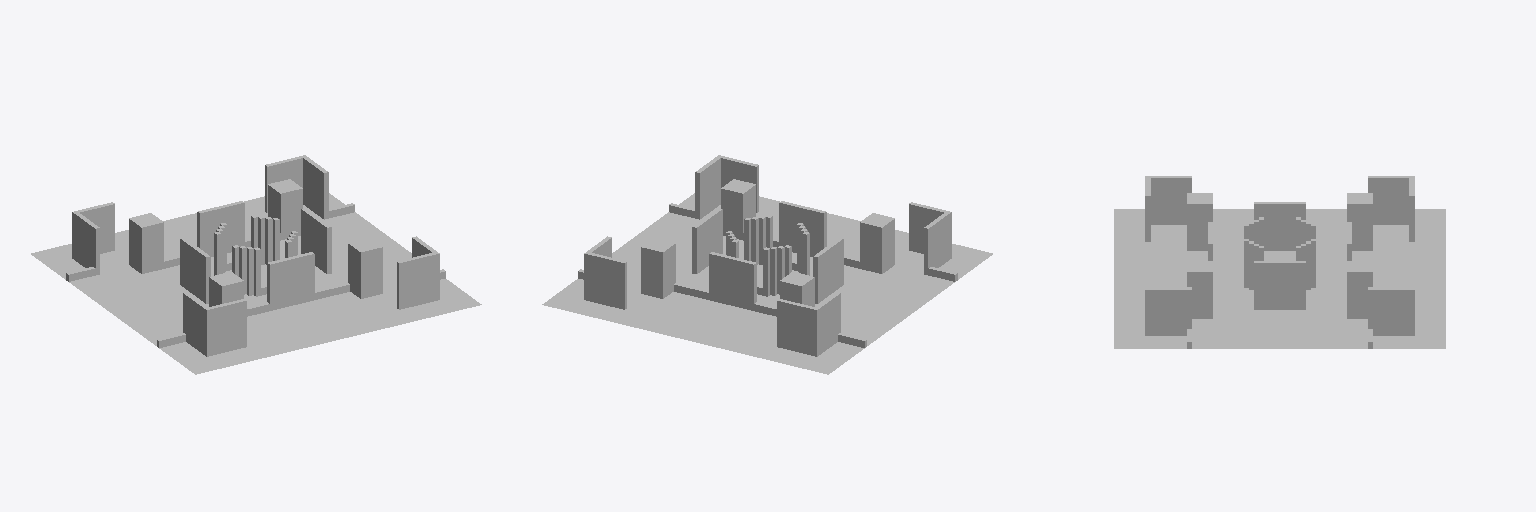
File: bigArenaBlueMoreDoors.obj
3 renders of one model, left to right at view 1: azimuth 30°, elevation 25°; view 2: azimuth 150°, elevation 25°; view 3: azimuth 270°, elevation 25°, orthographic.
Parts seen in each view (by area): view 1: Plane.001; view 2: Plane.001; view 3: Plane.001.
Boxes of the visible parts, x1=… form: Plane.001: x1=31, y1=155, x2=481, y2=374; Plane.001: x1=542, y1=155, x2=992, y2=374; Plane.001: x1=1114, y1=176, x2=1445, y2=348.
Bounding box in the file's own units: 2469 × 383 × 2469.